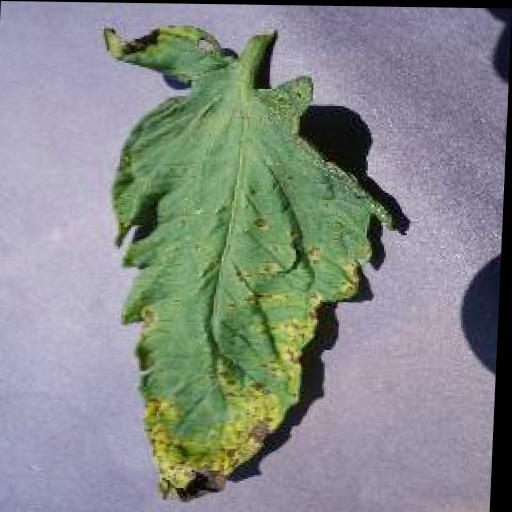Septoria: (90, 20, 399, 505)
